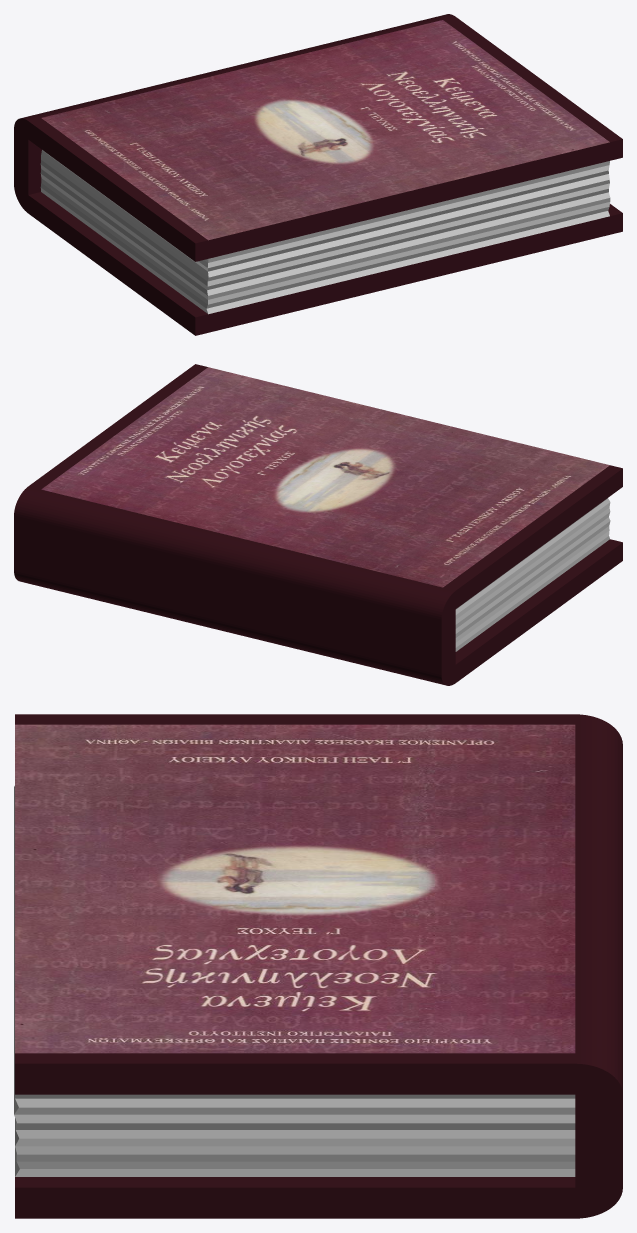
The model's file is book9.obj.
3 views of the same model, one above another, from view 1: azimuth 30°, elevation 25°; view 2: azimuth 150°, elevation 25°; view 3: azimuth 270°, elevation 25° (orthographic). The views are drawn at different scales.
Visible parts, largest first — view 1: Cube_3, Cube_1, Cube_2; view 2: Cube_3, Cube_1, Cube_2; view 3: Cube_3, Cube_1, Cube_2.
Boxes of the visible parts, x1,y1,x2,y2 form: Cube_3: (41, 20, 609, 240); Cube_1: (14, 14, 622, 335); Cube_2: (40, 150, 610, 314); Cube_3: (41, 367, 609, 587); Cube_1: (14, 364, 622, 685); Cube_2: (455, 498, 610, 651); Cube_3: (15, 724, 575, 1053); Cube_1: (15, 714, 622, 1218); Cube_2: (14, 786, 575, 1176).
Bounding box in the file's own units: 186 × 38.44 × 137.
Materials: 3 (1 with a texture image).
